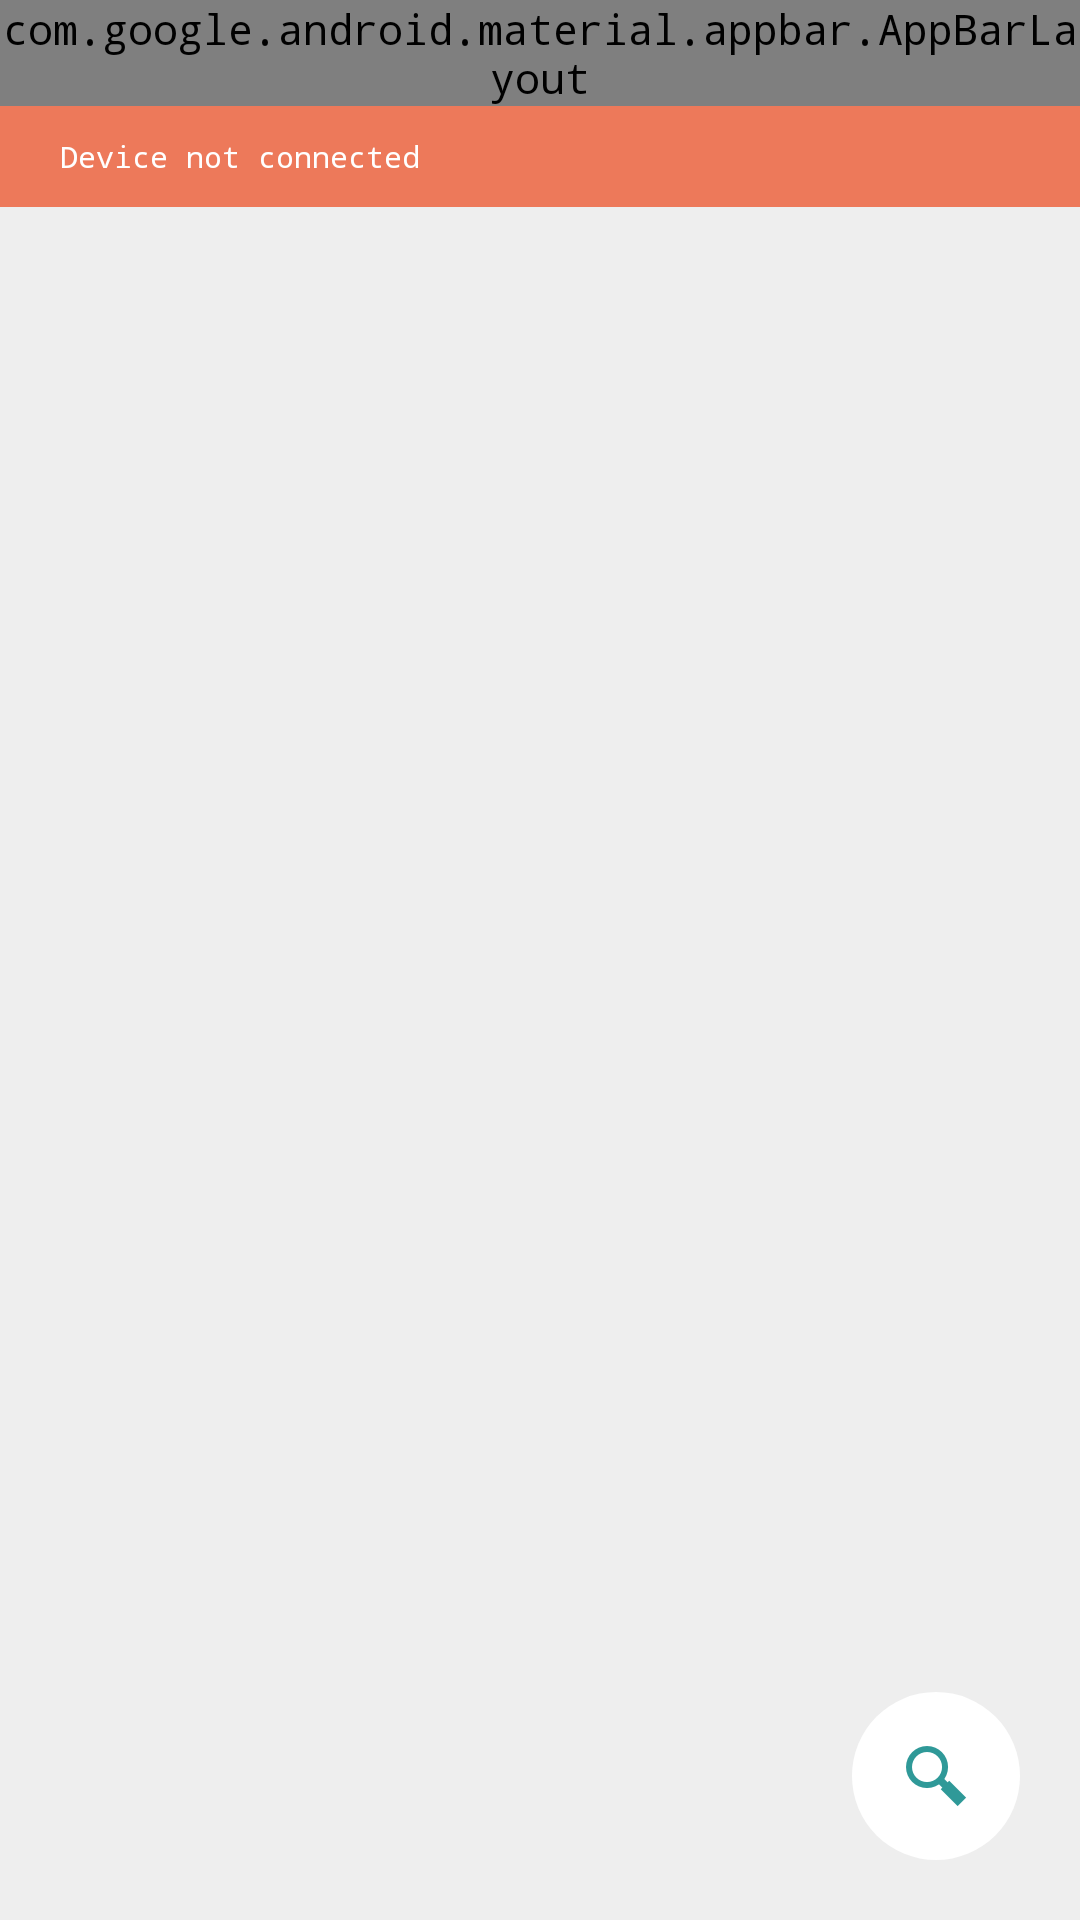

Icons on this 1080*1920 Android screen, each with the point to tap as [x,y]:
search: [936,1776]
